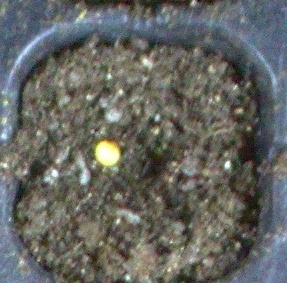chilli seed: (94, 139, 121, 166)
